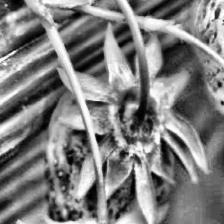Gray Mold: (44, 89, 176, 224)
